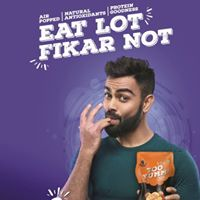plastic: (139, 153, 173, 200)
tooyumm: (145, 164, 169, 180)
wrapper: (136, 152, 176, 198)
